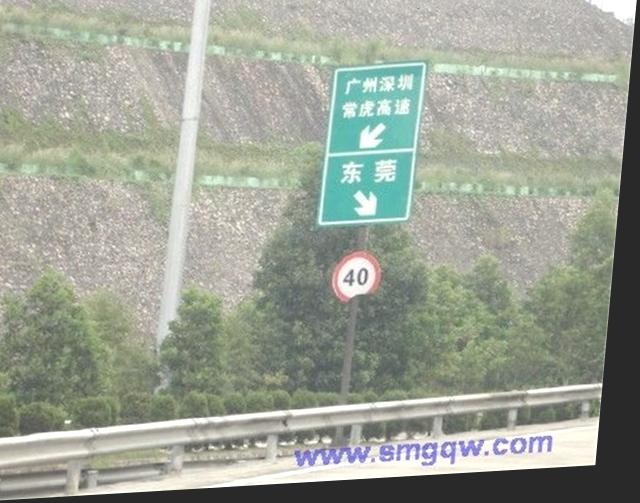limit40: (334, 258, 388, 307)
